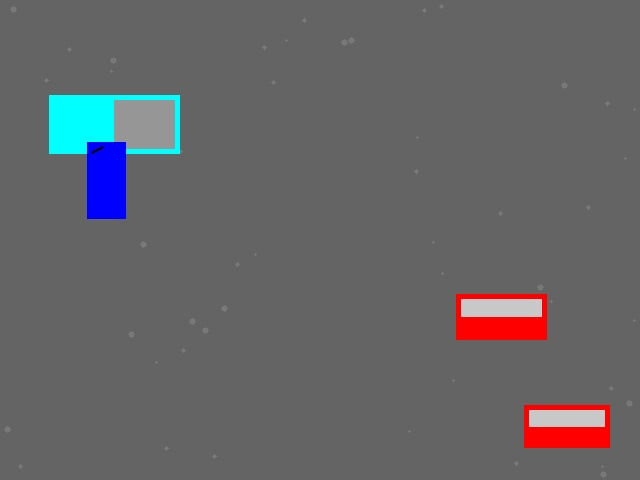car: (456, 294, 546, 339), (524, 405, 609, 447)
motorcycle: (87, 142, 125, 218)
truck: (49, 95, 179, 153)
